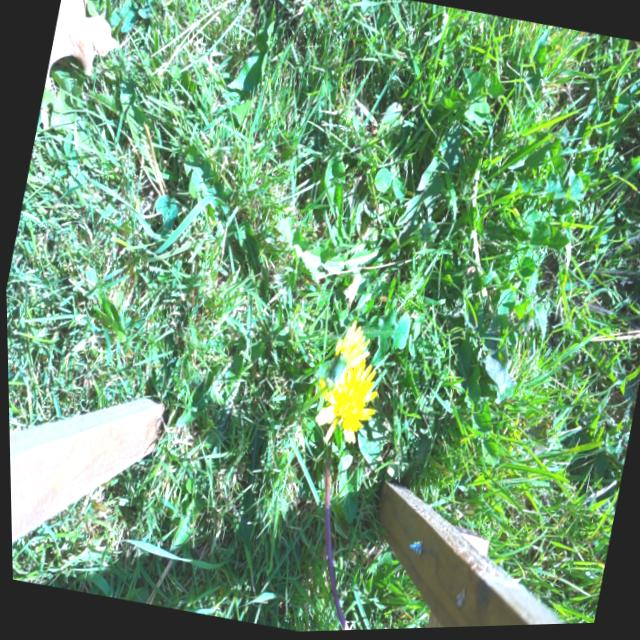base: (290, 398, 315, 434), (316, 433, 339, 471)
flower: (308, 348, 377, 449), (324, 321, 367, 387)
